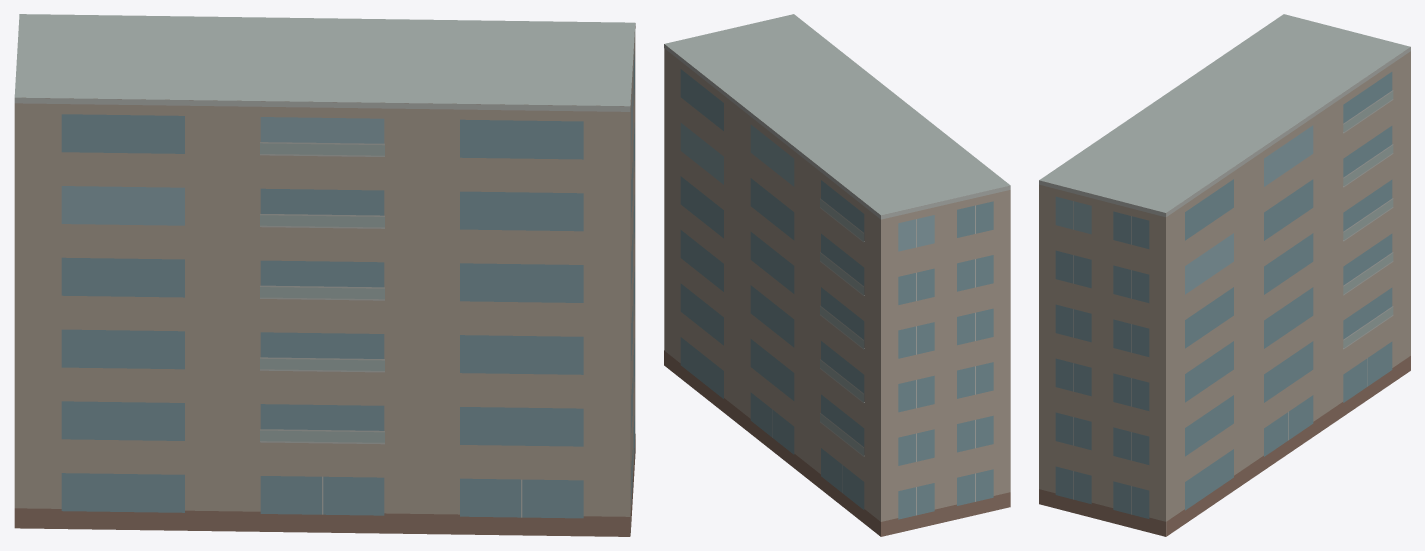
Rendered from survey-upis-32737346.glb.
3 renders of one model, left to right at view 1: azimuth 30°, elevation 25°; view 2: azimuth 150°, elevation 25°; view 3: azimuth 270°, elevation 25°, orthographic. The views are drawn at different scales.
Visible parts, largest first — view 1: survey-upis-32737346.tmp; view 2: survey-upis-32737346.tmp; view 3: survey-upis-32737346.tmp.
Boxes of the visible parts, x1=… form: survey-upis-32737346.tmp: x1=14, y1=14, x2=635, y2=536; survey-upis-32737346.tmp: x1=664, y1=14, x2=1010, y2=536; survey-upis-32737346.tmp: x1=1039, y1=14, x2=1410, y2=536.
Size of the model in its own units: 24.13 by 18.3 by 19.05.
